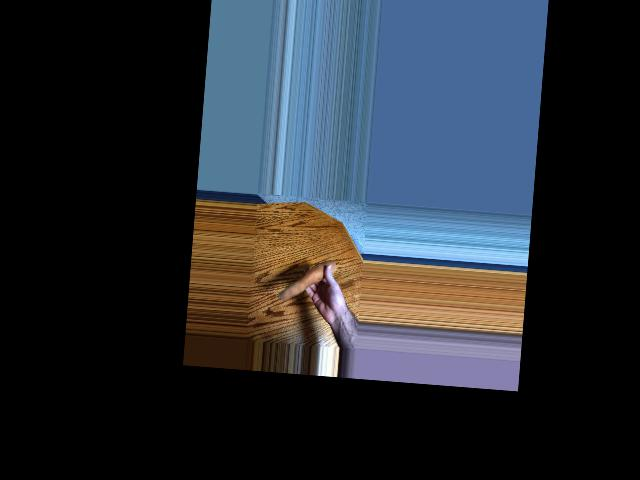sweet_potato: (278, 259, 336, 306)
